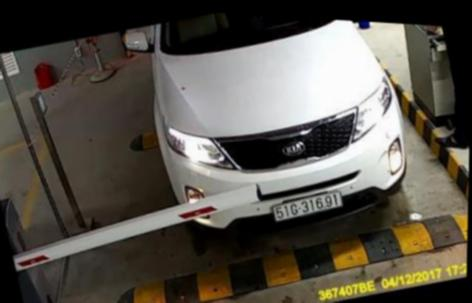License_Plate: (265, 179, 347, 233)
